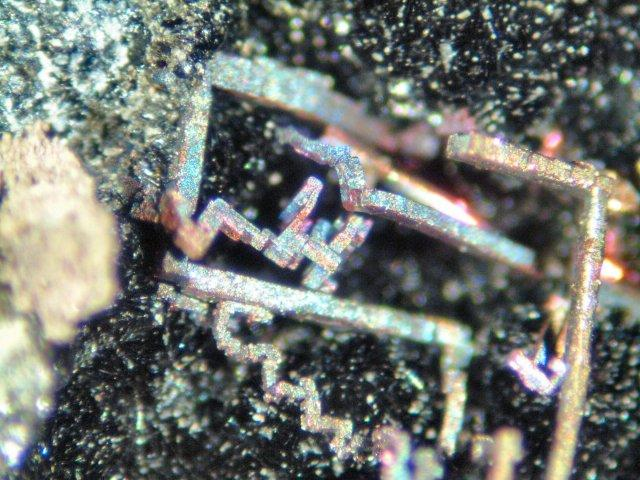copper: (159, 55, 536, 456), (448, 134, 614, 480)
